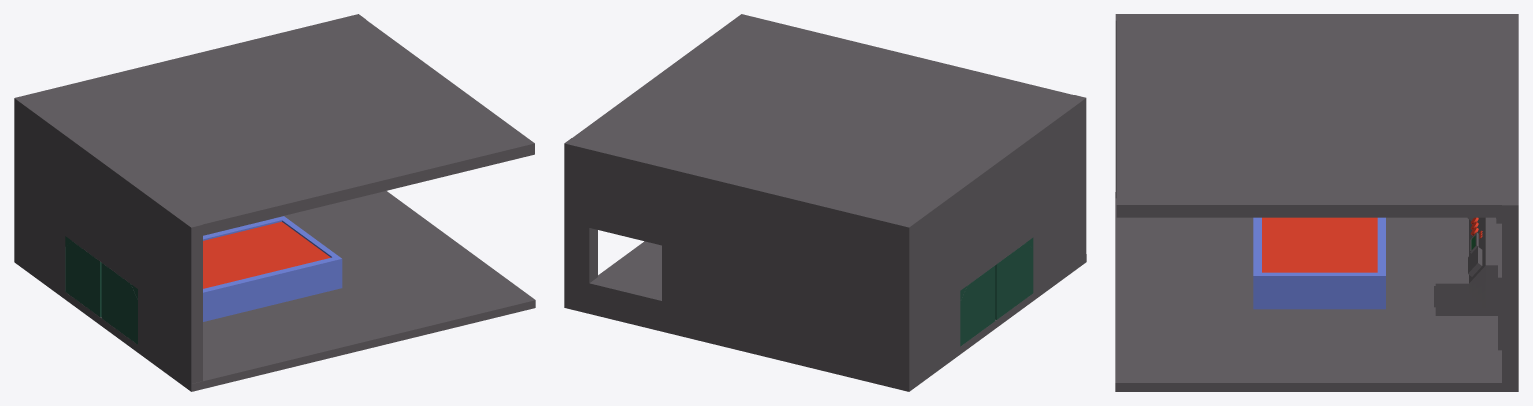
3 renders of one model, left to right at view 1: azimuth 30°, elevation 25°; view 2: azimuth 150°, elevation 25°; view 3: azimuth 270°, elevation 25°, orthographic. The views are drawn at different scales.
Visible parts, largest first — view 1: Cube, Desk, Screen, Door; view 2: Cube, Door, Windows; view 3: Cube, Screen, Desk, Windows.
Boxes of the visible parts, x1,y1,x2,y2 form: Cube: (14,14,535,391); Desk: (203,216,342,321); Screen: (203,221,330,288); Door: (65,236,137,344); Cube: (564,14,1086,391); Door: (960,237,1033,346); Windows: (585,223,665,306); Cube: (1115,14,1518,391); Screen: (1262,217,1377,272); Desk: (1253,217,1385,309); Windows: (1498,233,1501,350).
Size of the model in its own units: 1416 by 645 by 1262.
